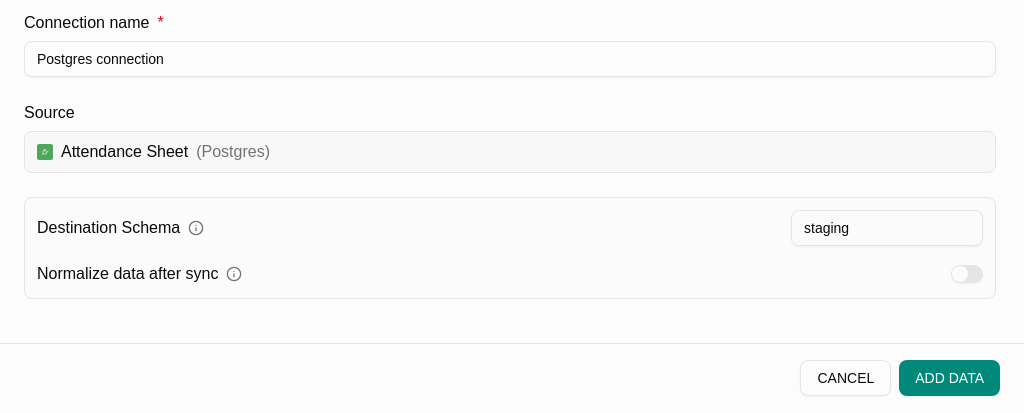
it: ConnectionFormBody split help + custom view › explains Destination Schema beside its right-aligned input
Hover over the button named "About Destination Schema" at point(196, 228), box [186, 218, 206, 238]
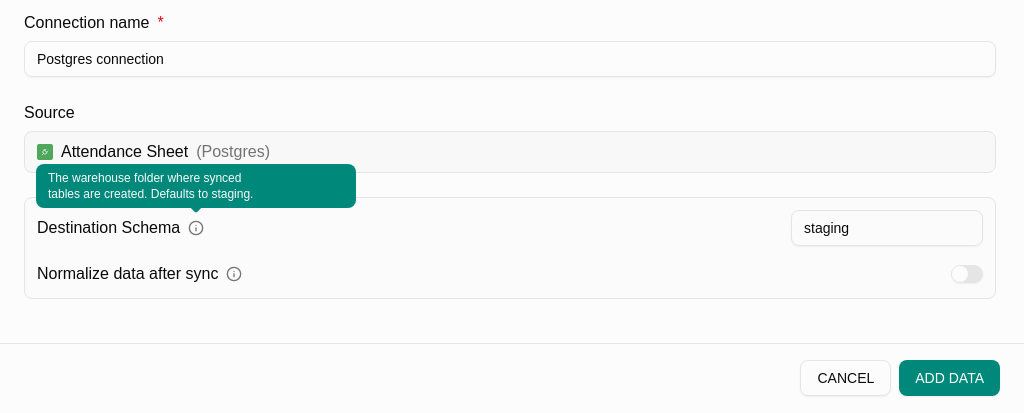
Expected: the tooltip reads "The warehouse folder where synced tables are created. Defaults to staging.", [48, 171, 254, 201]
